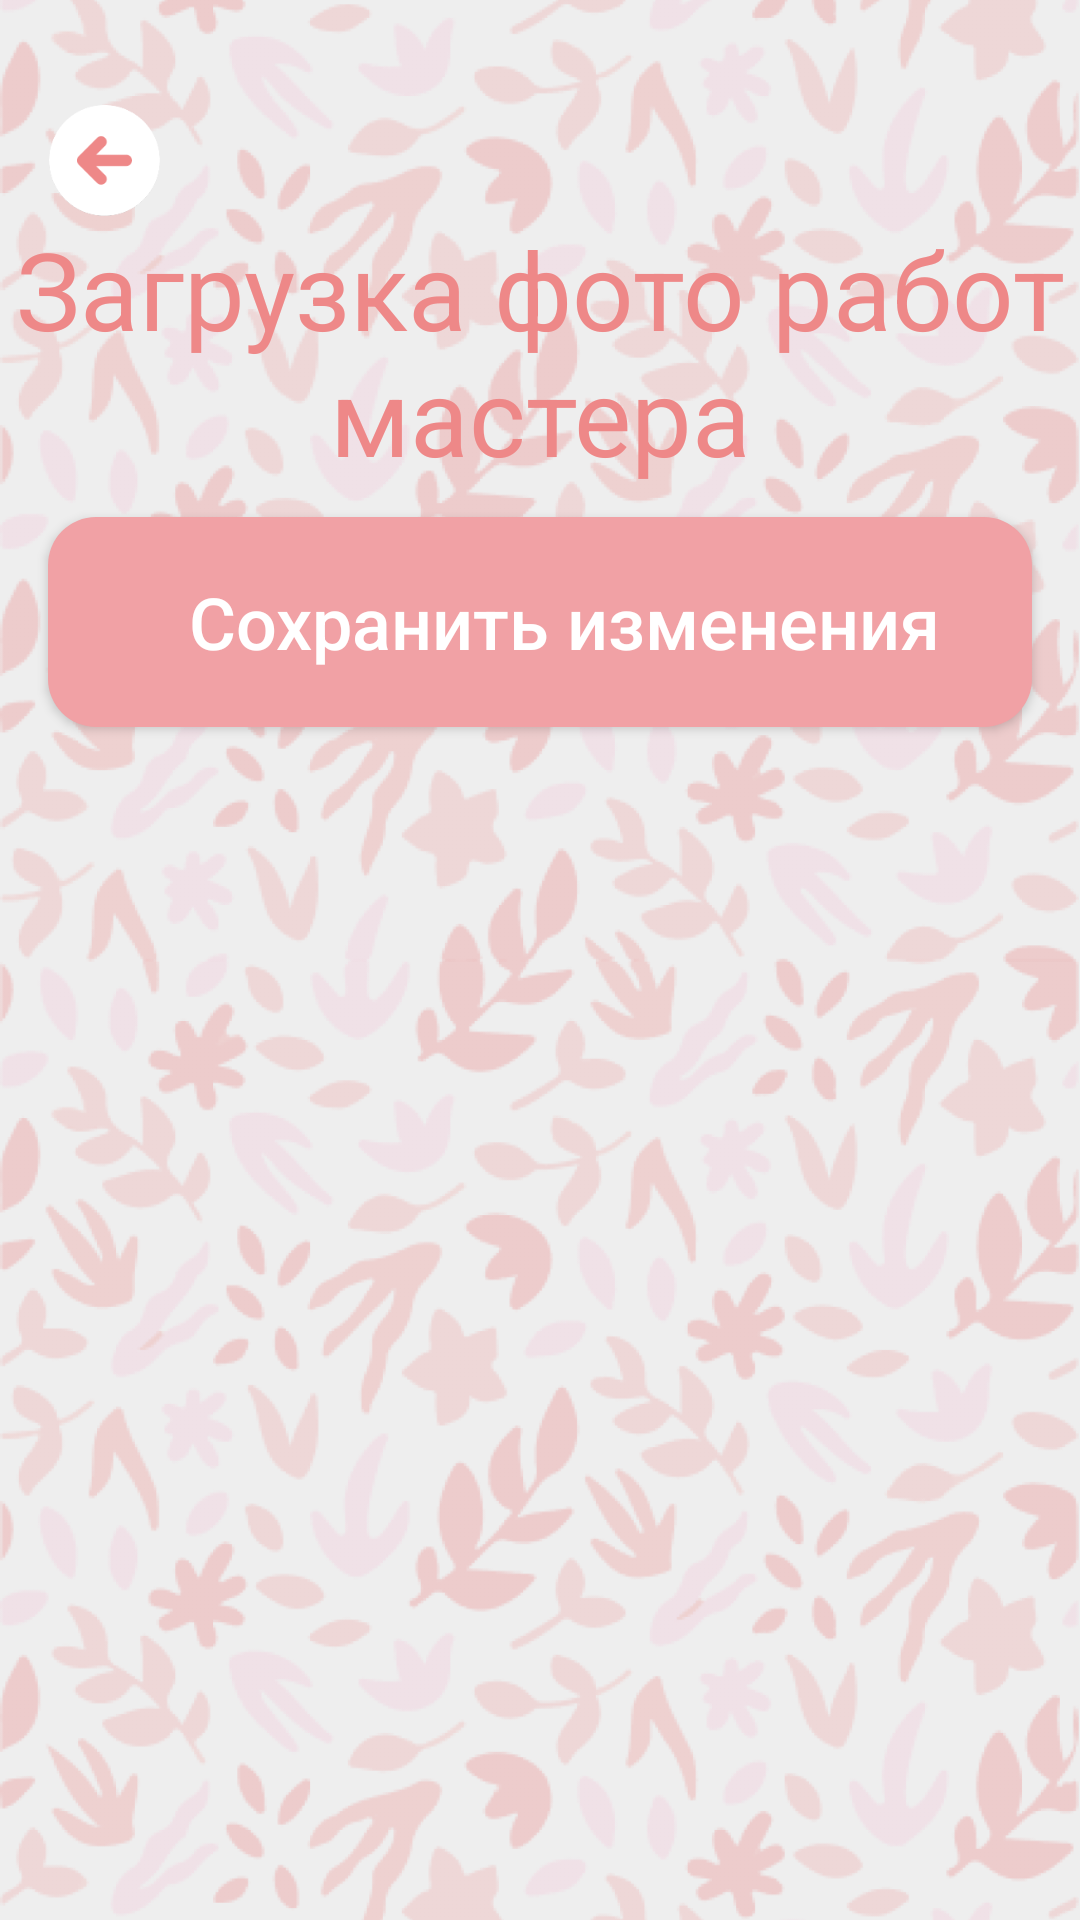

Point at icon controls on the screen. Image size 1080×1920, points as point (x, y).
back arrow: point (104, 160)
